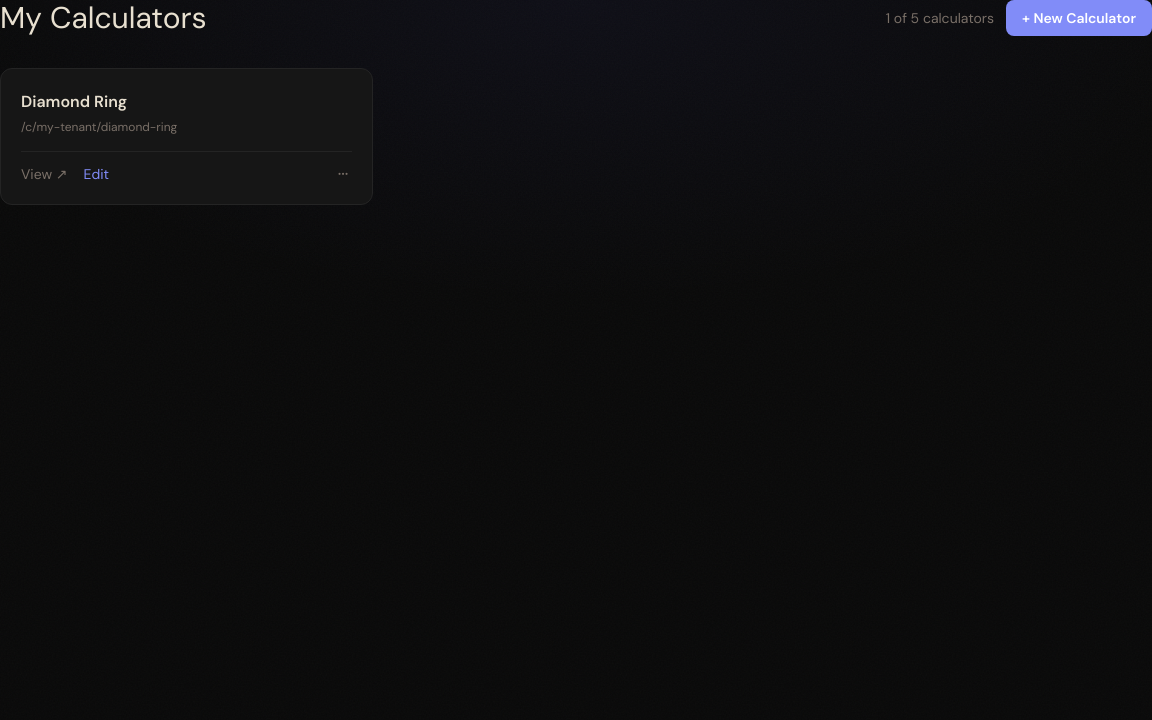
it: Dashboard › opens duplicate dialog with pre-filled values
Click the button named "more actions" at (343, 174), box [334, 165, 352, 183]
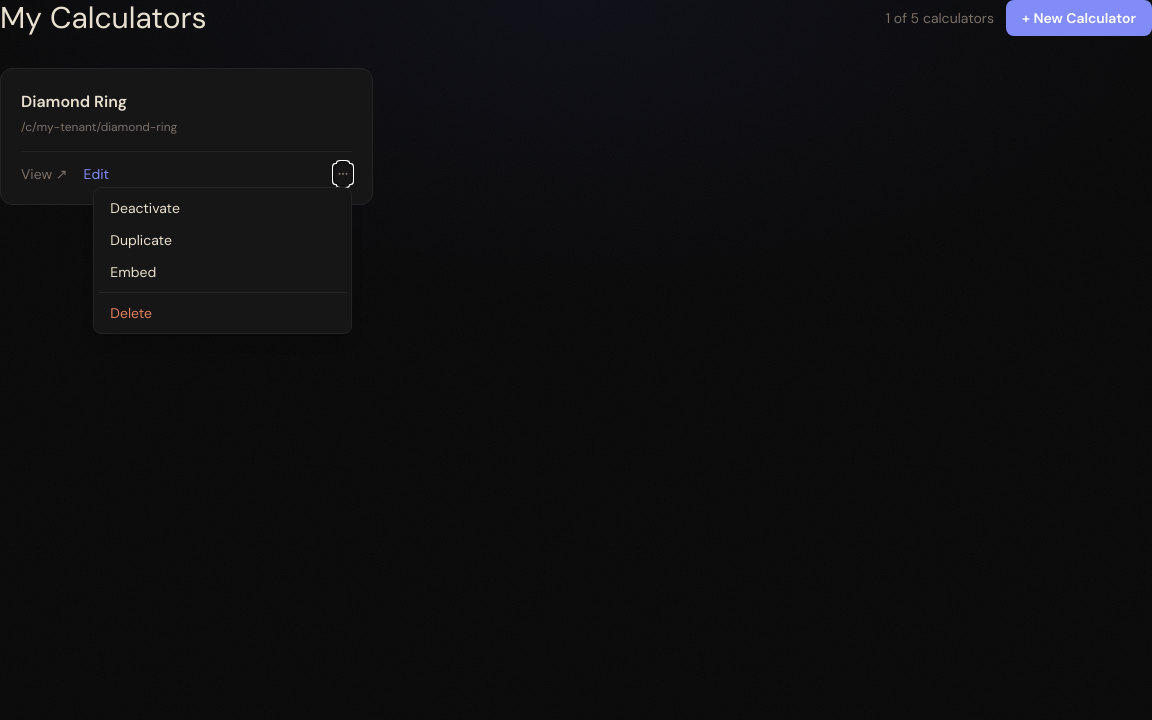
Click the button "Duplicate" at (223, 240), box [98, 224, 347, 256]
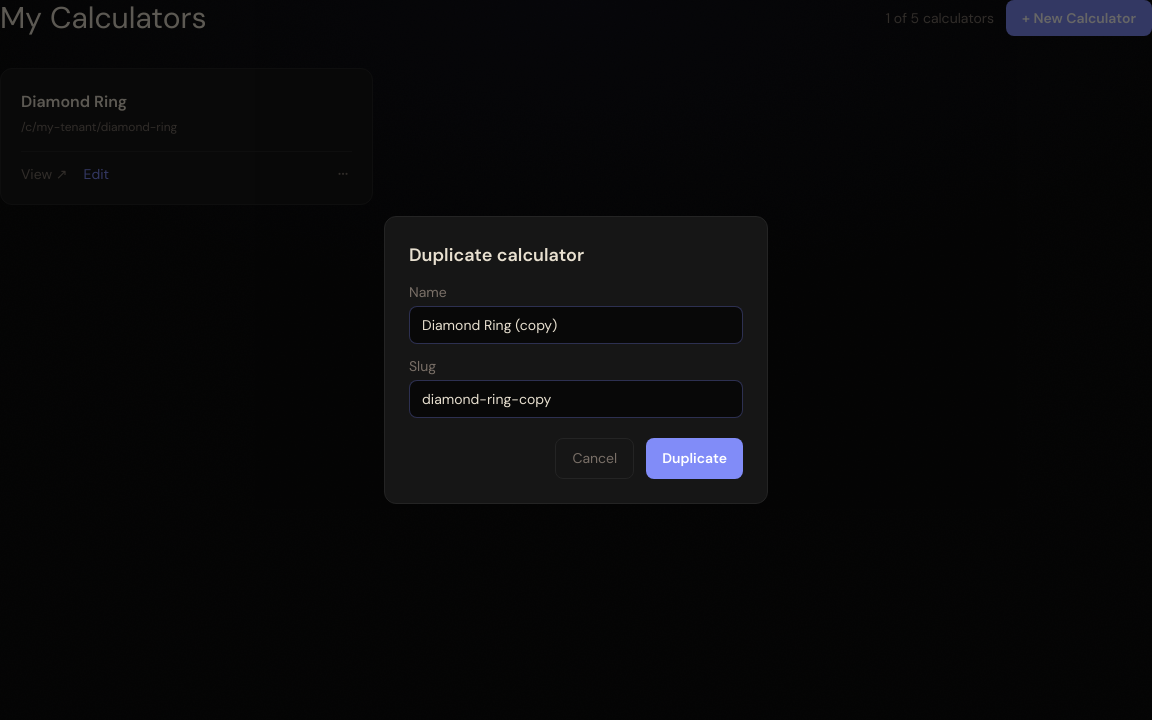
Check: the dialog is shown, box [384, 216, 768, 504]
Check: the field showing "Diamond Ring (copy)" is shown, box [409, 306, 743, 344]
Check: the field showing "diamond-ring-copy" is shown, box [409, 380, 743, 418]
